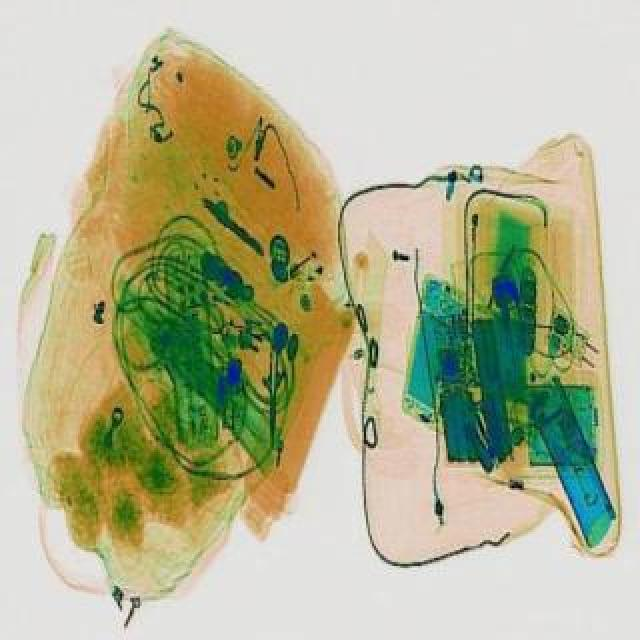knife: (262, 338, 286, 446)
